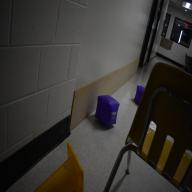cone: (32, 142, 84, 192)
cube: (94, 94, 120, 128), (133, 86, 146, 106)
